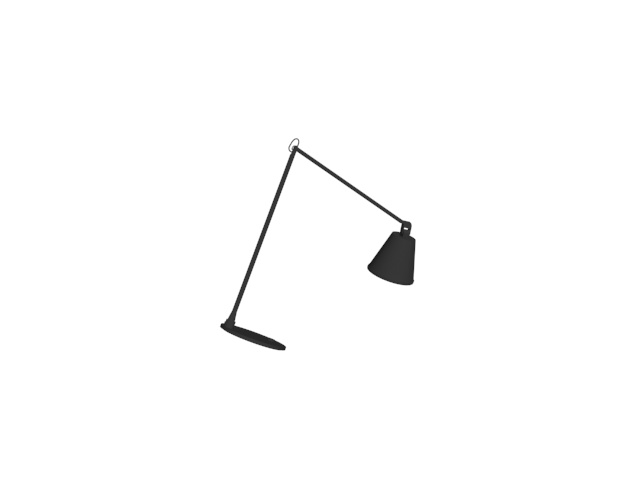desk_lamp: (217, 137, 416, 352)
